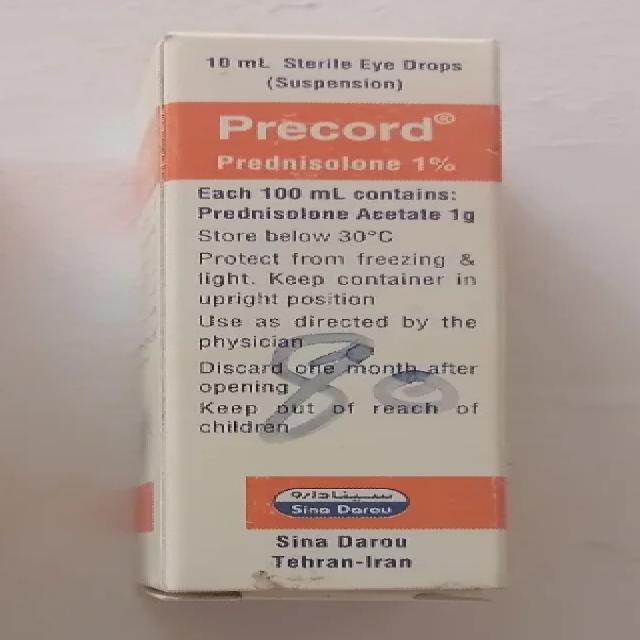drug-name: (217, 114, 432, 144)
